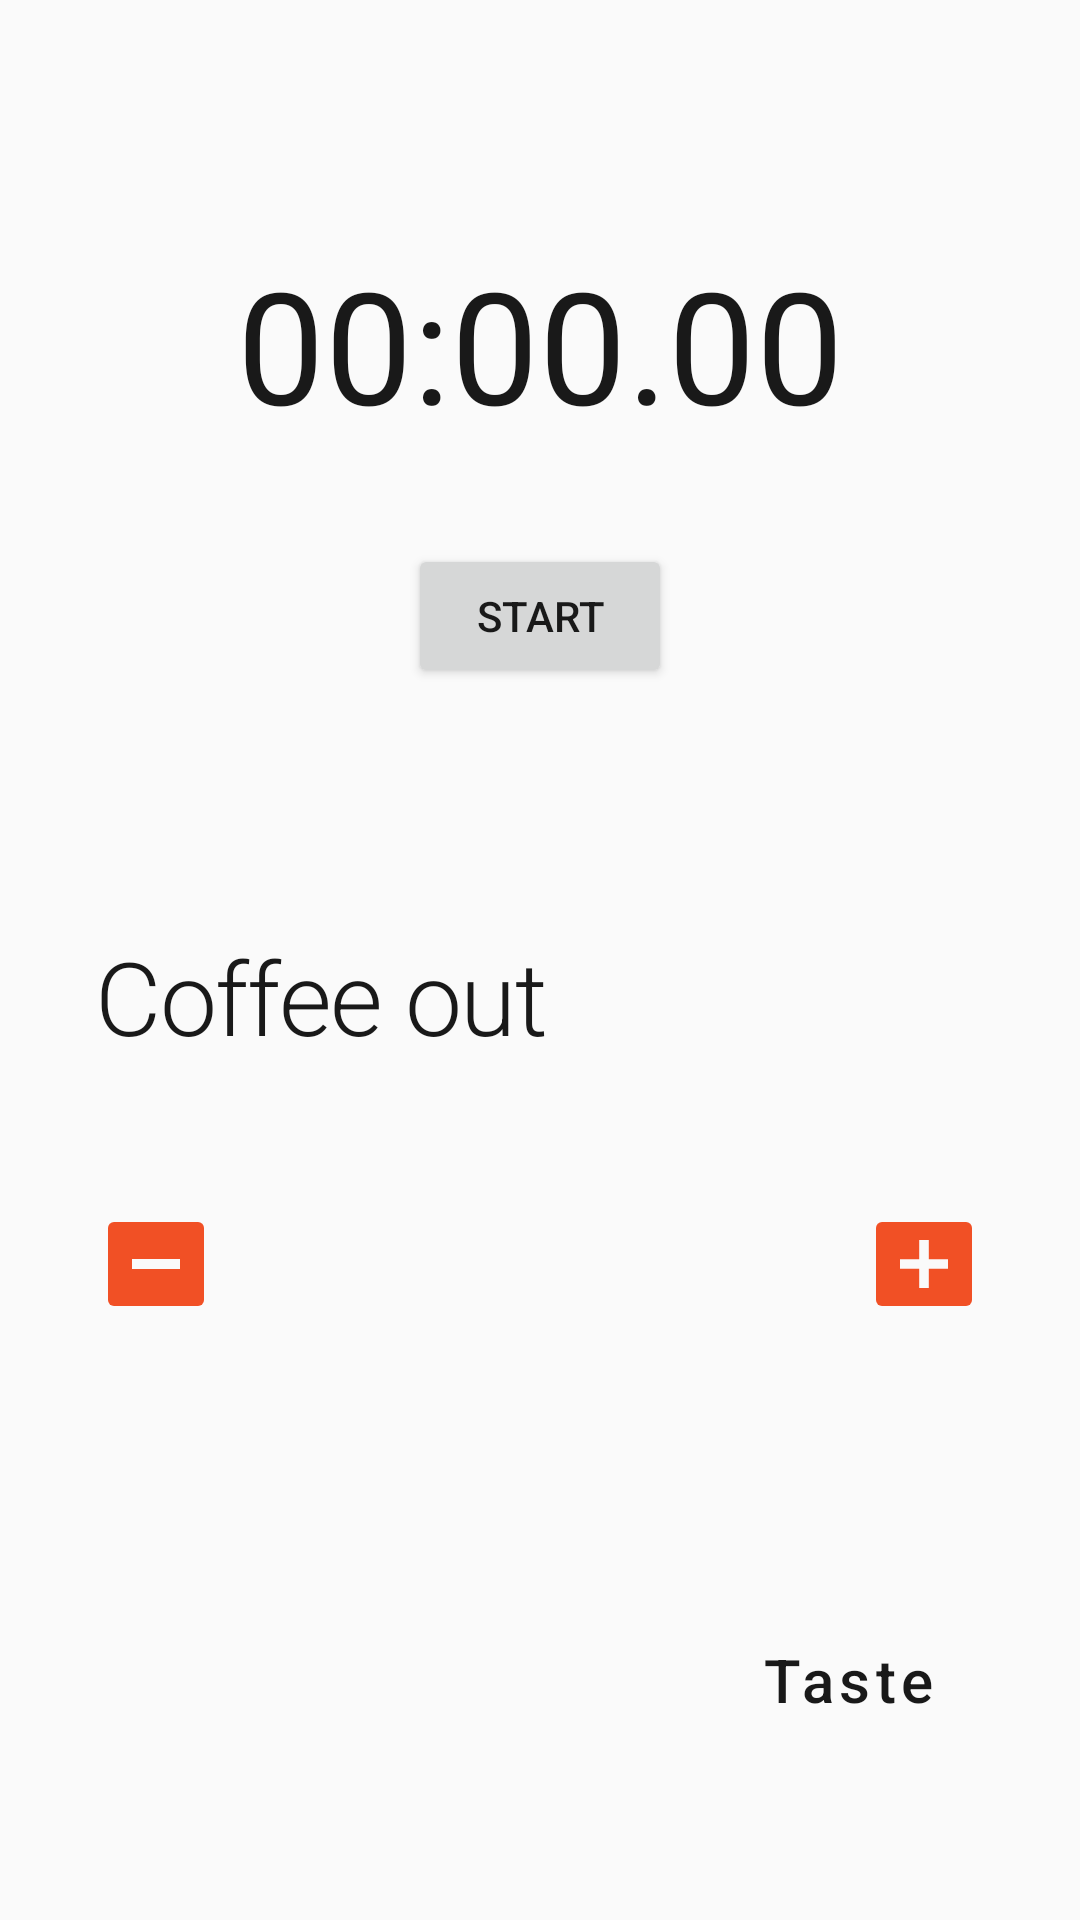

Named icons in this screenshot (1080px x 1920px) and their bounding boxes, (x1, y1, x2, y2):
add: (876, 1222, 972, 1306)
subtract: (108, 1222, 204, 1306)
